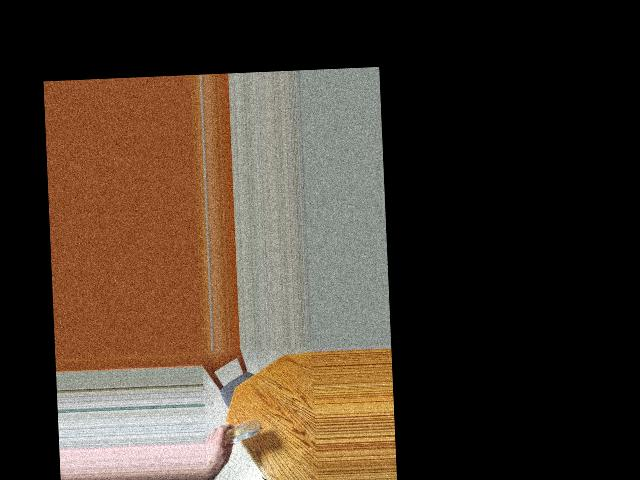cheese: (223, 416, 256, 445)
